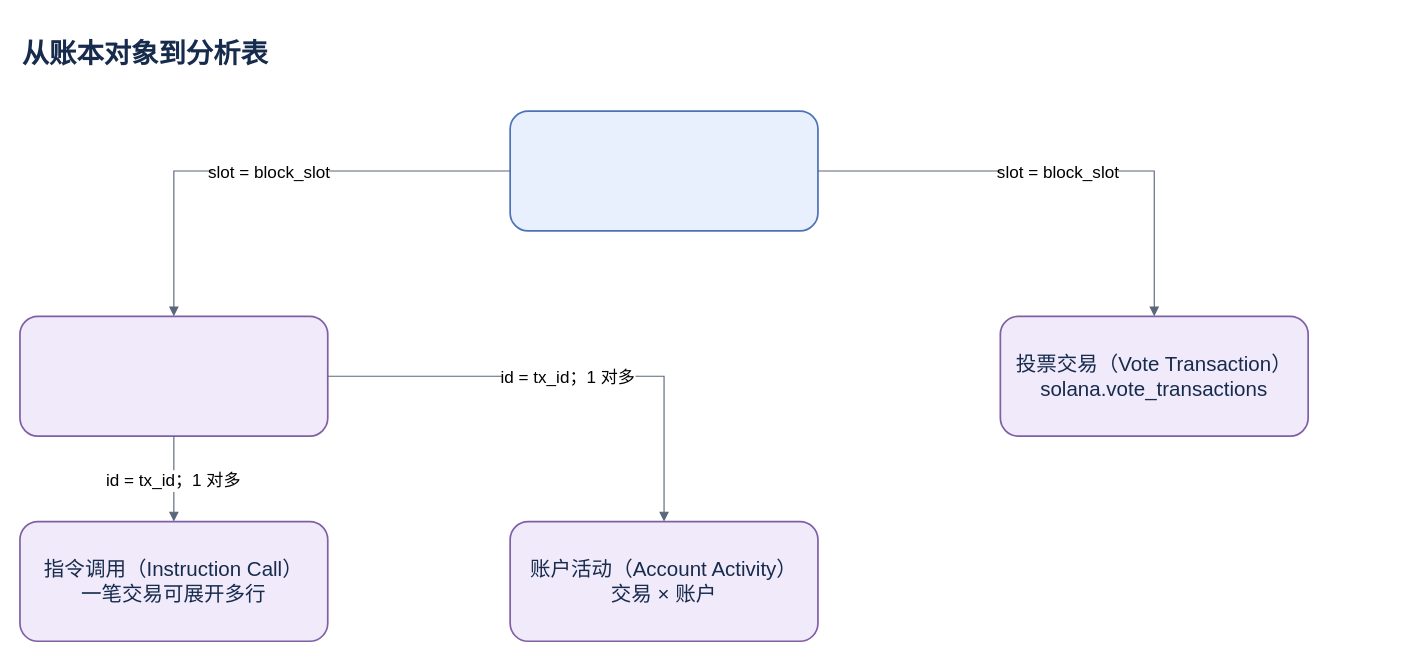
The diagram is 1408 pixels wide and 661 high, and some of its shapes have lost their labels. Here are the shapes that lost their labels. From the top down, the centre of each, then its label:
point 663,170: 区块（Block） solana.blocks：一块一行
point 173,375: 非投票交易（Transaction） solana.transactions：一笔一行
